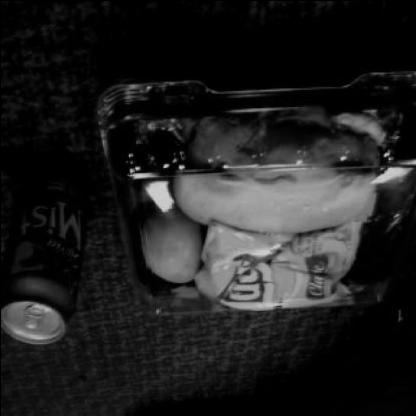alumunium_can: (1, 152, 87, 346)
